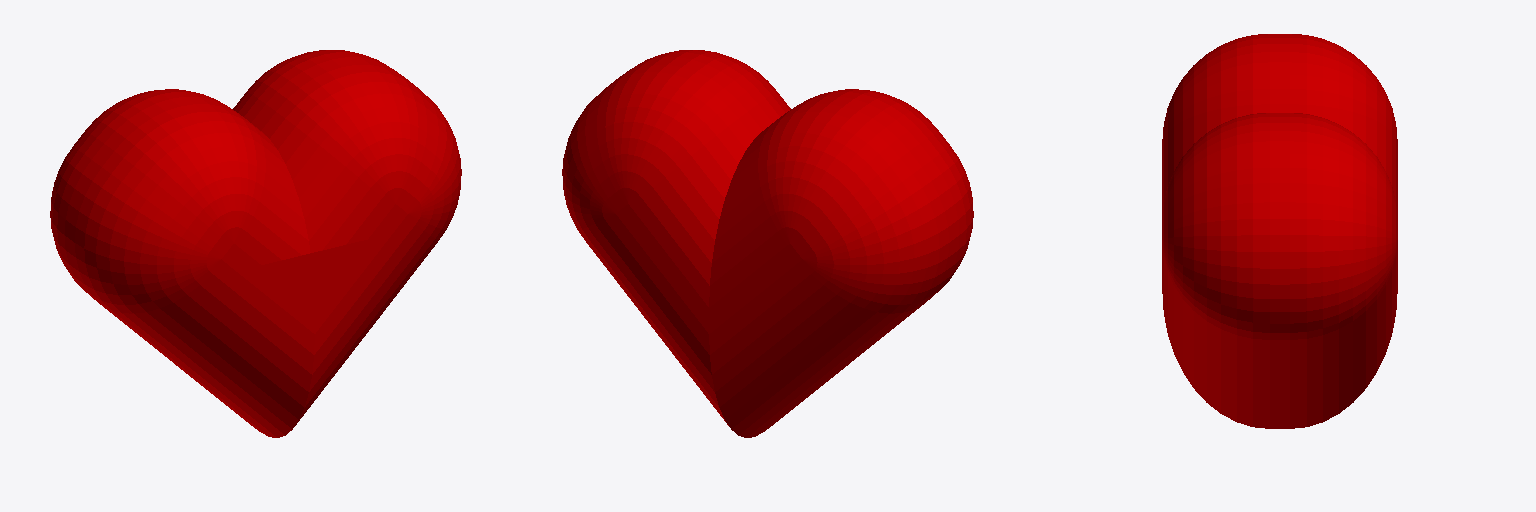
File: heart.obj
The picture shows the model from 3 angles: view 1: azimuth 30°, elevation 25°; view 2: azimuth 150°, elevation 25°; view 3: azimuth 270°, elevation 25°; orthographic projection.
Visible parts, largest first — view 1: Cube; view 2: Cube; view 3: Cube.
Part boxes in pixels (left/top/right/bottom): Cube: left=50, top=50, right=461, bottom=437; Cube: left=562, top=50, right=973, bottom=437; Cube: left=1162, top=34, right=1397, bottom=428.
Size of the model in its own units: 3.66 by 3.24 by 2.